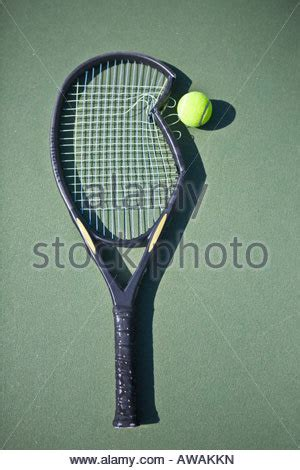tennis_ball: (177, 91, 212, 128)
